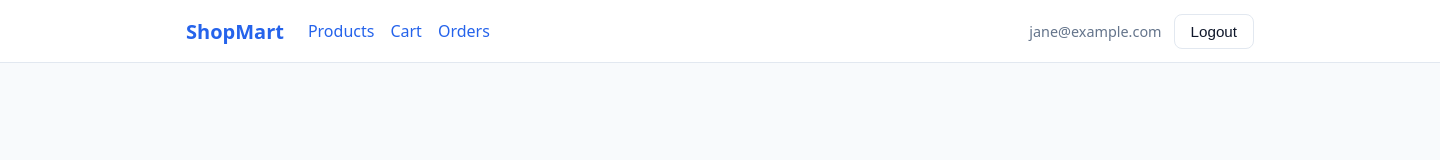
Scenario: Navbar › clears auth and navigates to /login on logout click
Click the button "Logout": (1214,31) [1174,14,1254,49]
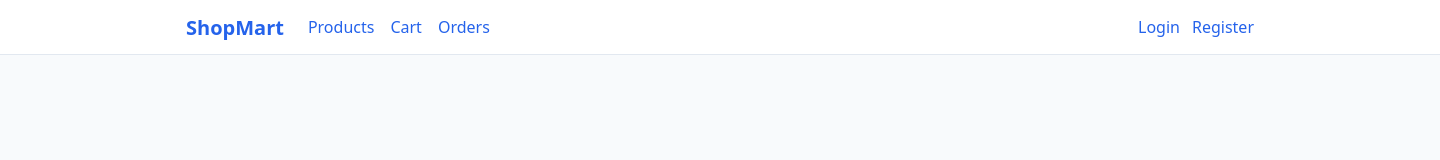
Expected: the link "Login" is shown, [1138,16,1180,38]
